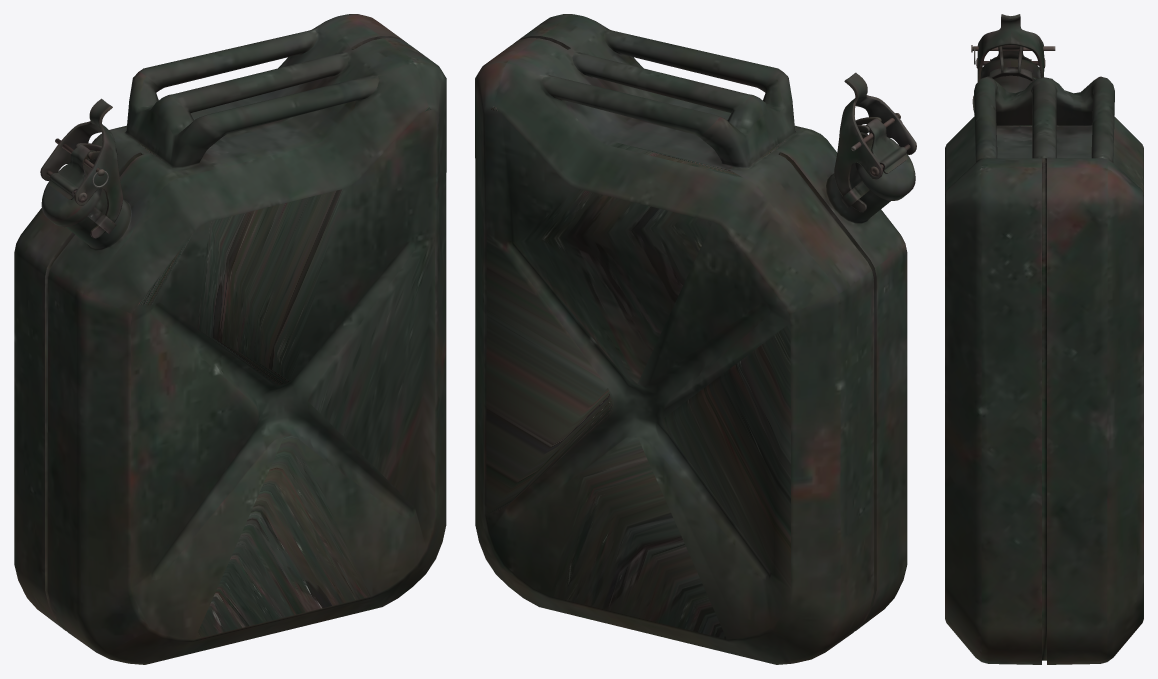
File: metal_jerrycan_green.glb
3 renders of one model, left to right at view 1: azimuth 30°, elevation 25°; view 2: azimuth 150°, elevation 25°; view 3: azimuth 270°, elevation 25°, orthographic. The views are drawn at different scales.
Visible parts, largest first — view 1: metal_jerrycan_green_pin; view 2: metal_jerrycan_green_pin; view 3: metal_jerrycan_green_pin.
Part boxes in pixels (left/top/right/bottom): metal_jerrycan_green_pin: left=14, top=14, right=446, bottom=664; metal_jerrycan_green_pin: left=475, top=14, right=916, bottom=664; metal_jerrycan_green_pin: left=945, top=14, right=1143, bottom=664.
Size of the model in its own units: 0.3604 by 0.4999 by 0.1709.
1 material, 1 textured.
